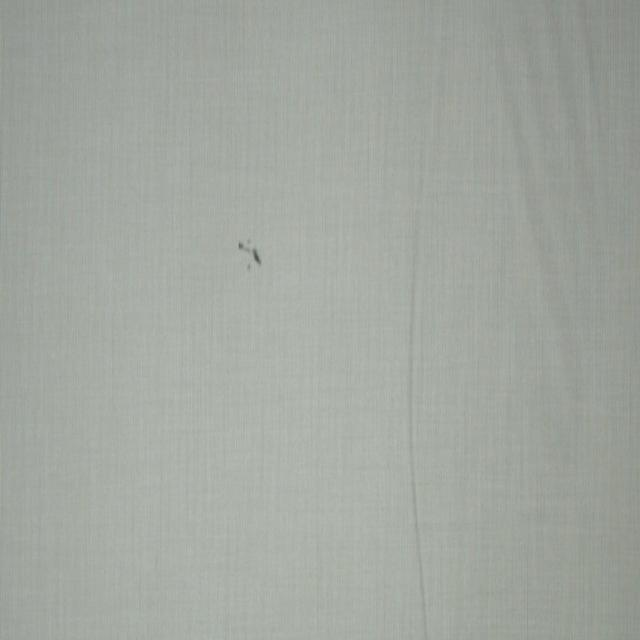dirty: (238, 237, 263, 266)
